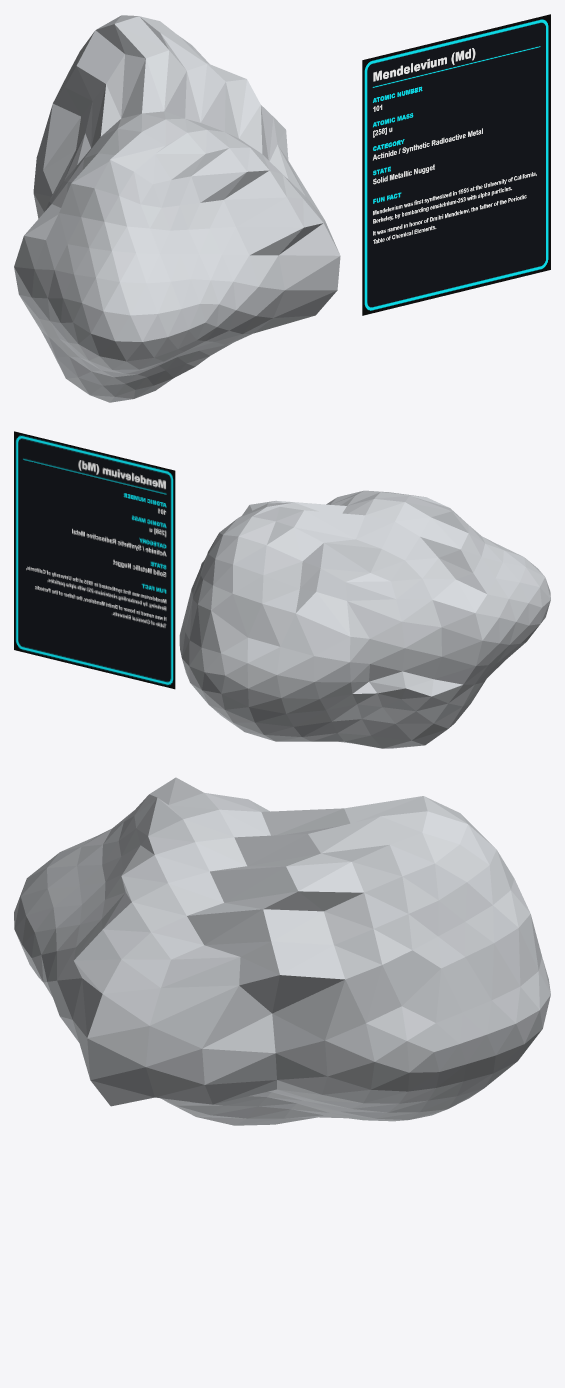
The model's file is mendelevium.glb.
The picture shows the model from 3 angles, top to bottom: view 1: azimuth 30°, elevation 25°; view 2: azimuth 150°, elevation 25°; view 3: azimuth 270°, elevation 25°; orthographic projection. The views are drawn at different scales.
Visible parts, largest first — view 1: Mesh_0, Mesh_2; view 2: Mesh_0, Mesh_2; view 3: Mesh_0.
Part boxes in pixels (bbox=[...]): Mesh_0: bbox=[14, 15, 340, 402]; Mesh_2: bbox=[362, 14, 550, 315]; Mesh_0: bbox=[179, 490, 550, 748]; Mesh_2: bbox=[14, 431, 175, 689]; Mesh_0: bbox=[14, 777, 550, 1125].
Bounding box in the file's own units: 2.34 × 1.21 × 1.62.
2 materials, 1 textured.
